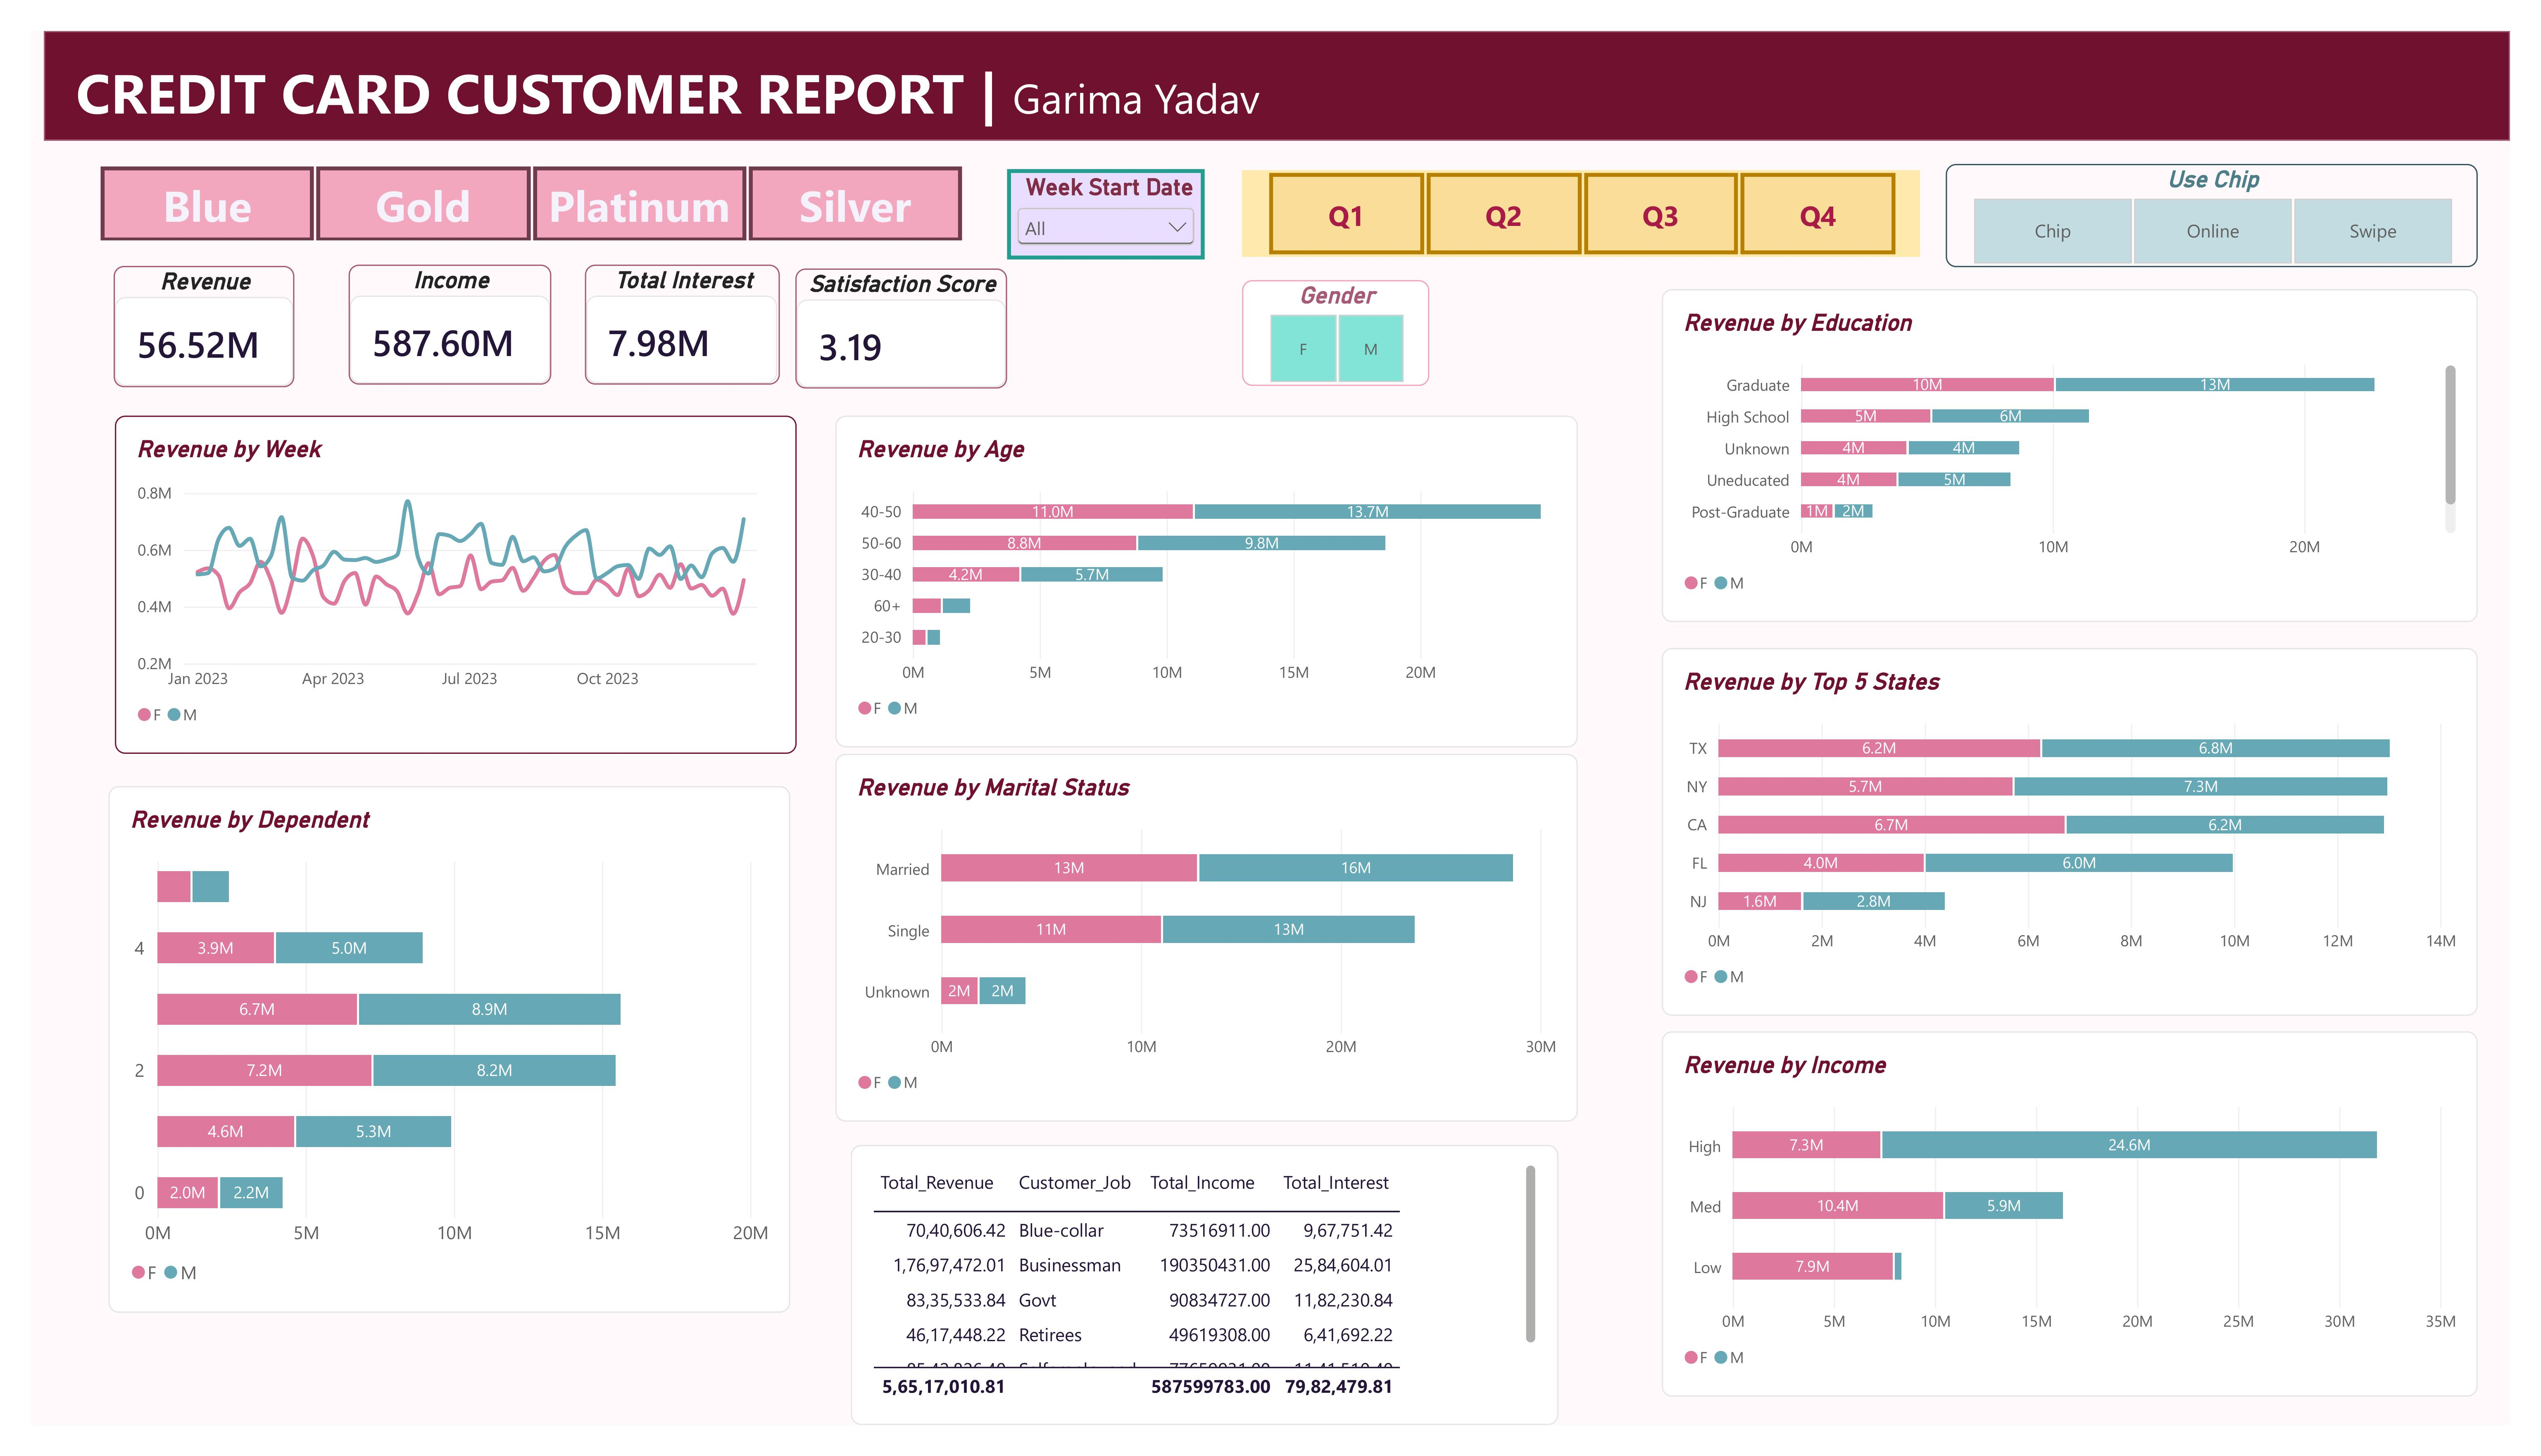

The page's visual inventory and layout, read from the dashboard file:
{"tool":"powerbi","page":{"name":"Customer Dashboard","canvas":[1920,1080],"ordinal":3},"visuals":[{"type":"shape","box":[10,0,1910,85],"z":0},{"type":"textbox","box":[35,17.5,1885,67.5],"z":1000},{"type":"slicer","fields":{"Values":["Credit_Card.Card_Category"]},"box":[33.4,102.6,706.2,59.6],"z":2000},{"type":"lineChart","title":"Revenue by Week","fields":{"Category":["Credit_Card.Week_Start_Date"],"Series":["Customer.Gender"],"Y":["_Measures.Total_Revenue"]},"box":[65,297.5,527.5,262.5],"z":3000},{"type":"tableEx","fields":{"Values":["_Measures.Total_Revenue","Customer.Customer_Job","_Measures.Total_Income","_Measures.Total_Interest"]},"box":[635,862.5,547.5,217.5],"z":4000},{"type":"barChart","title":"Revenue by Age","fields":{"Category":["Customer.Age_Band"],"Series":["Customer.Gender"],"Y":["_Measures.Total_Revenue"]},"box":[622.5,297.5,575,257.5],"z":5000},{"type":"barChart","title":"Revenue by Marital Status","fields":{"Category":["Customer.Marital_Status"],"Series":["Customer.Gender"],"Y":["_Measures.Total_Revenue"]},"box":[622.5,560,575,285],"z":6000},{"type":"barChart","title":"Revenue by Dependent","fields":{"Category":["Customer.Dependent_Count"],"Series":["Customer.Gender"],"Y":["_Measures.Total_Revenue"]},"box":[60,585,527.5,407.5],"z":7000},{"type":"barChart","title":"Revenue by Income","fields":{"Category":["Customer.Income_Group"],"Series":["Customer.Gender"],"Y":["_Measures.Total_Revenue"]},"box":[1262.5,775,632.5,282.5],"z":8000},{"type":"barChart","title":"Revenue by Education","fields":{"Category":["Customer.Education_Level"],"Series":["Customer.Gender"],"Y":["_Measures.Total_Revenue"]},"box":[1262.5,200,632.5,257.5],"z":9000},{"type":"slicer","title":"Use Chip","fields":{"Values":["Credit_Card.Use Chip"]},"box":[1482.5,102.5,412.5,80],"z":10000},{"type":"barChart","title":"Revenue by Top 5 States","fields":{"Category":["Customer.state_cd"],"Series":["Customer.Gender"],"Y":["_Measures.Total_Revenue"]},"box":[1262.5,477.5,632.5,285],"z":11000},{"type":"slicer","title":"Week Start Date","fields":{"Values":["Credit_Card.Week_Start_Date"]},"box":[756.3,107.4,152.7,69.2],"z":12000},{"type":"slicer","fields":{"Values":["Credit_Card.Qtr"]},"box":[937.5,107.5,525,67.5],"z":13000},{"type":"slicer","title":"Gender","fields":{"Values":["Customer.Gender"]},"box":[937.5,192.5,145,82.5],"z":14000},{"type":"cardVisual","title":"Revenue","fields":{"Data":["_Measures.Total_Revenue"]},"box":[64,182,140,94],"z":15000},{"type":"cardVisual","title":"Total Interest","fields":{"Data":["_Measures.Total_Interest"]},"box":[429.5,181.3,150.3,93.1],"z":16000},{"type":"cardVisual","title":"Income","fields":{"Data":["_Measures.Total_Income"]},"box":[245.7,181.3,157.5,93.1],"z":17000},{"type":"cardVisual","title":"Satisfaction Score","fields":{"Data":["_Measures.Avg_Satisfaction"]},"box":[591.7,183.7,164.6,93.1],"z":18000}]}

Visuals, with their boxes on the page's 1920x1080 design canvas (x1, y1, x2, y2). These are canvas units, not pixel positions in the 2541x1456 screenshot, which may show the page scaled, cropped or inside an application window:
shape: 10,0,1920,85
textbox: 35,18,1920,85
slicer - Credit_Card.Card_Category: 33,103,740,162
"Revenue by Week" lineChart: 65,298,592,560
tableEx - _Measures.Total_Revenue x Customer.Customer_Job: 635,862,1182,1080
"Revenue by Age" barChart: 622,298,1198,555
"Revenue by Marital Status" barChart: 622,560,1198,845
"Revenue by Dependent" barChart: 60,585,588,992
"Revenue by Income" barChart: 1262,775,1895,1058
"Revenue by Education" barChart: 1262,200,1895,458
"Use Chip" slicer: 1482,102,1895,182
"Revenue by Top 5 States" barChart: 1262,478,1895,762
"Week Start Date" slicer: 756,107,909,177
slicer - Credit_Card.Qtr: 938,108,1462,175
"Gender" slicer: 938,192,1082,275
"Revenue" cardVisual: 64,182,204,276
"Total Interest" cardVisual: 430,181,580,274
"Income" cardVisual: 246,181,403,274
"Satisfaction Score" cardVisual: 592,184,756,277
